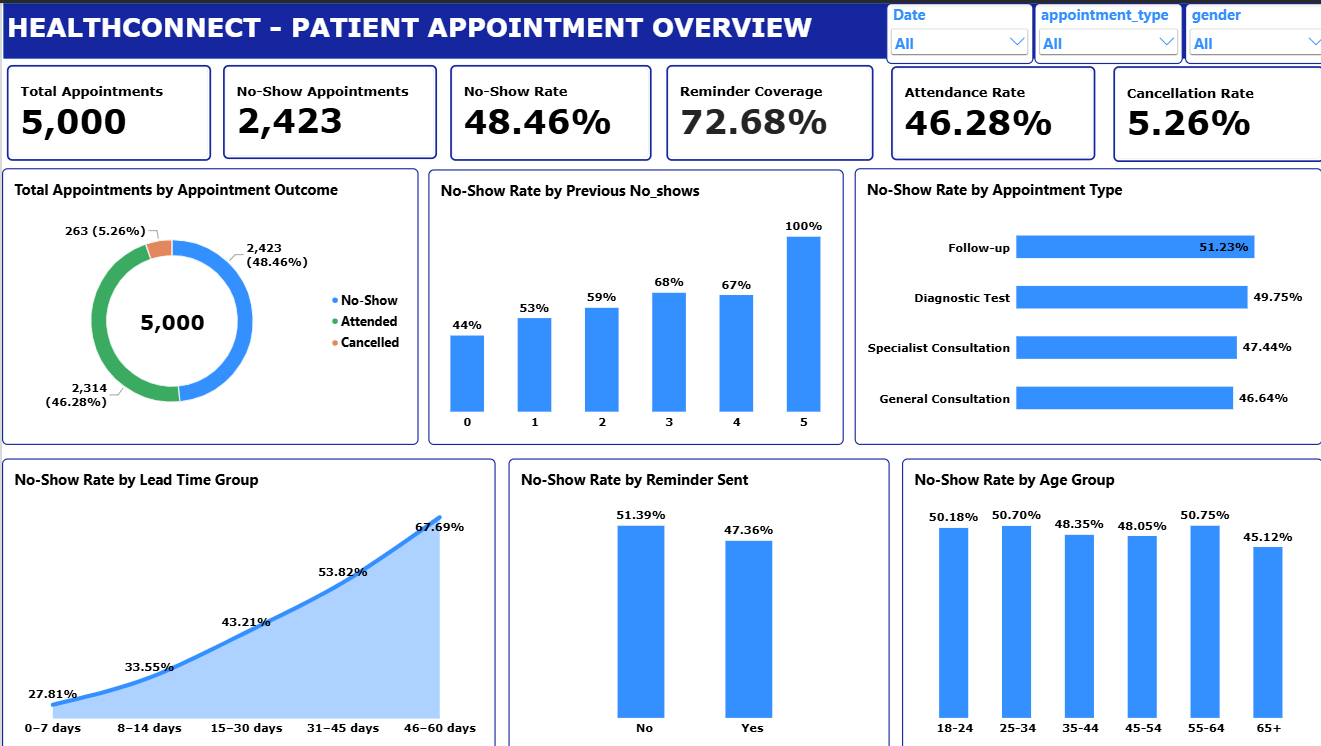

Layout of this report page (visuals, bound fields, positions):
{"tool":"powerbi","page":{"name":"OVERVIEW","canvas":[1920,1080],"ordinal":0},"visuals":[{"type":"shape","box":[2.1,0,1918.5,80.3],"z":0},{"type":"cardVisual","fields":{"Data":["Appointments.Total Appointments"]},"box":[6.2,88.5,294.4,137.9],"z":1000},{"type":"cardVisual","fields":{"Data":["Appointments.Cancellation Rate"]},"box":[1603.6,90.6,304.7,137.9],"z":2000},{"type":"cardVisual","fields":{"Data":["Appointments.Attendance Rate"]},"box":[1282.4,90.6,294.4,135.9],"z":3000},{"type":"cardVisual","fields":{"Data":["Appointments.No-Show Rate"]},"box":[646.4,88.5,290.2,137.9],"z":4000},{"type":"cardVisual","fields":{"Data":["Appointments.Reminder Coverage"]},"box":[959.3,88.5,298.5,137.9],"z":5000},{"type":"donutChart","title":"Total Appointments by Appointment Outcome","fields":{"Y":["Appointments.Total Appointments"],"Category":["Appointments.appointment_outcome"]},"box":[0,238.8,601.1,399.3],"z":6000},{"type":"lineChart","fields":{"Y":["Appointments.No-Show Rate"],"Category":["Appointments.Lead Time Group"]},"box":[0,656.7,712.2,422],"z":7000},{"type":"clusteredColumnChart","title":"No-Show Rate by Previous No_shows","fields":{"Category":["Appointments.previous_no_shows"],"Y":["Appointments.No-Show Rate"]},"box":[615.5,240.8,599,397.3],"z":8000},{"type":"clusteredColumnChart","title":"No-Show Rate by Reminder Sent","fields":{"Category":["Appointments.reminder_sent"],"Y":["Appointments.No-Show Rate"]},"box":[730.8,656.7,549.6,422],"z":9000},{"type":"clusteredBarChart","title":"No-Show Rate by Appointment Type","fields":{"Category":["Appointments.appointment_type"],"Y":["Appointments.No-Show Rate"]},"box":[1231,238.8,675.2,399.3],"z":10000},{"type":"clusteredColumnChart","title":"No-Show Rate by Age Group","fields":{"Y":["Appointments.No-Show Rate"],"Category":["Appointments.age_group"]},"box":[1298.9,656.7,607.3,422],"z":11000},{"type":"slicer","fields":{"Values":["Appointments.appointment_type"]},"box":[1490.4,0,214.1,88.5],"z":12000},{"type":"slicer","fields":{"Values":["DateTable.Date"]},"box":[1276.3,0,212,88.5],"z":13000},{"type":"slicer","fields":{"Values":["Appointments.gender"]},"box":[1706.5,0,212,88.5],"z":14000},{"type":"cardVisual","fields":{"Data":["Appointments.No-Show Appointments"]},"box":[319.1,88.5,308.8,135.9],"z":15000},{"type":"textbox","box":[6.2,10.3,1274.2,70],"z":16000}]}

Visuals, with their boxes in screenshot pixels (x1, y1, x2, y2), scaled from the page's 1920x1080 canvas onto the 1321x746 screenshot:
shape: [x1=1, y1=0, x2=1320, y2=55]
cardVisual - Appointments.Total Appointments: [x1=4, y1=61, x2=207, y2=156]
cardVisual - Appointments.Cancellation Rate: [x1=1103, y1=63, x2=1313, y2=158]
cardVisual - Appointments.Attendance Rate: [x1=882, y1=63, x2=1085, y2=156]
cardVisual - Appointments.No-Show Rate: [x1=445, y1=61, x2=644, y2=156]
cardVisual - Appointments.Reminder Coverage: [x1=660, y1=61, x2=865, y2=156]
"Total Appointments by Appointment Outcome" donutChart: [x1=0, y1=165, x2=414, y2=441]
lineChart - Appointments.No-Show Rate x Appointments.Lead Time Group: [x1=0, y1=454, x2=490, y2=745]
"No-Show Rate by Previous No_shows" clusteredColumnChart: [x1=423, y1=166, x2=836, y2=441]
"No-Show Rate by Reminder Sent" clusteredColumnChart: [x1=503, y1=454, x2=881, y2=745]
"No-Show Rate by Appointment Type" clusteredBarChart: [x1=847, y1=165, x2=1312, y2=441]
"No-Show Rate by Age Group" clusteredColumnChart: [x1=894, y1=454, x2=1312, y2=745]
slicer - Appointments.appointment_type: [x1=1025, y1=0, x2=1173, y2=61]
slicer - DateTable.Date: [x1=878, y1=0, x2=1024, y2=61]
slicer - Appointments.gender: [x1=1174, y1=0, x2=1320, y2=61]
cardVisual - Appointments.No-Show Appointments: [x1=220, y1=61, x2=432, y2=155]
textbox: [x1=4, y1=7, x2=881, y2=55]
